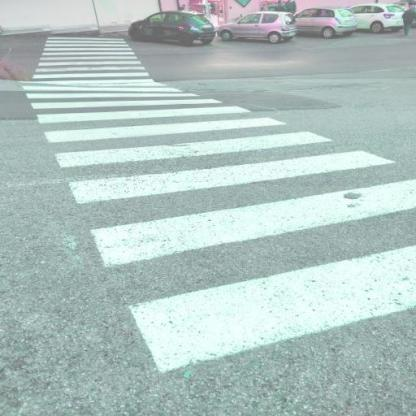crosswalk: (40, 110, 346, 174)
